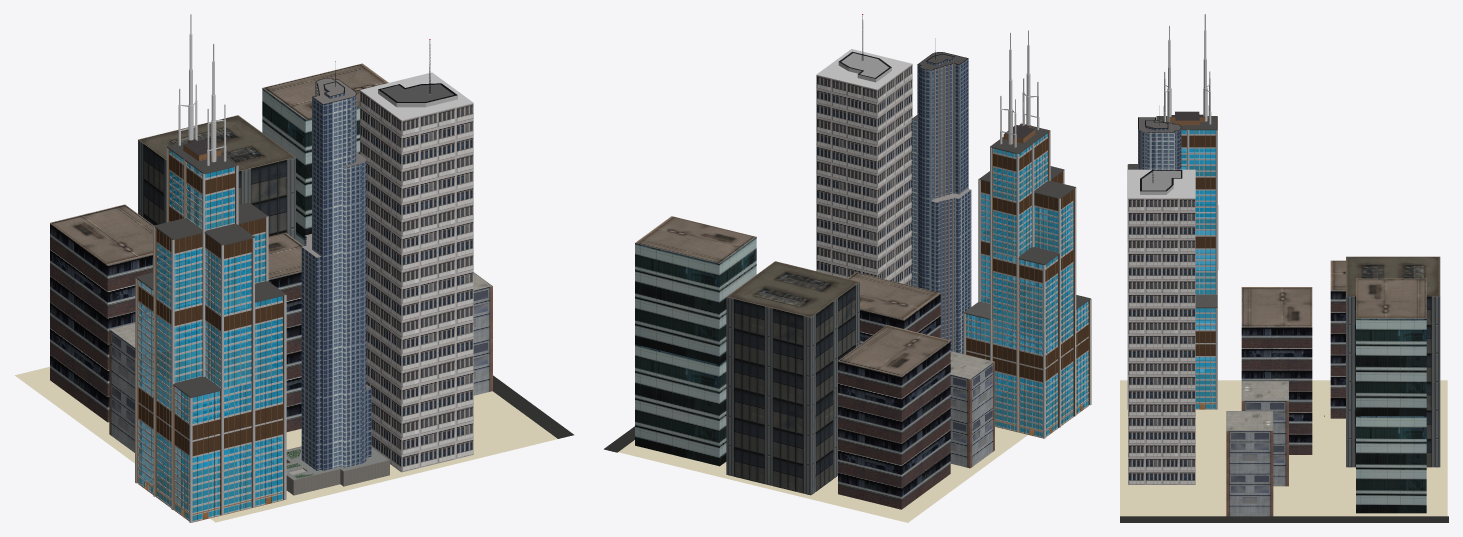
The picture shows the model from 3 angles, left to right: view 1: azimuth 30°, elevation 25°; view 2: azimuth 150°, elevation 25°; view 3: azimuth 270°, elevation 25°; orthographic projection. The views are drawn at different scales.
Visible parts, largest first — view 1: Skyscraper Backdrop Dummy500 (×2), FG-2015-Offsim City Building low Poly (×5), sky scrap1 (×5), High-rise module 2, City 15 Building Dummy large, High-rise module 1, Terrain 11,12, High-rise entrance floor, High-rise module 350m - (High-rise aerial), Hochhaus Boden, Skyscraper Backdrop Dummy 400, Driveway 0.1 - 12.0 - 256.0 (+5 smaller); view 2: FG-2015-Offsim City Building low Poly (×4), City 15 Building Dummy large, Skyscraper Backdrop Dummy500 (×2), sky scrap1 (×3), High-rise module 2, High-rise module 1, High-rise entrance floor, High-rise module 350m - (High-rise aerial), Terrain 8,15, Hochhaus Boden, Terrain 11,15, Terrain 8,14 (+4 smaller); view 3: FG-2015-Offsim City Building low Poly (×5), Skyscraper Backdrop Dummy500 (×2), City 15 Building Dummy large, High-rise module 2, Terrain 11,12, Terrain 11,14, Driveway 0.1 - 12.0 - 256.0, Terrain 10,14, sky scrap1 (×2), High-rise module 350m - (High-rise aerial), High-rise module 1, Terrain 11,13 (+10 smaller).
Part boxes in pixels (<box>): Skyscraper Backdrop Dummy500 (×2): <box>360,72,473,472</box>; FG-2015-Offsim City Building low Poly (×5): <box>50,63,492,452</box>; sky scrap1 (×5): <box>281,97,387,479</box>; High-rise module 2: <box>135,138,285,387</box>; City 15 Building Dummy large: <box>138,115,295,334</box>; High-rise module 1: <box>139,334,282,505</box>; Terrain 11,12: <box>473,402,557,458</box>; High-rise entrance floor: <box>138,456,283,522</box>; High-rise module 350m - (High-rise aerial): <box>178,14,226,165</box>; Hochhaus Boden: <box>141,343,280,387</box>; Skyscraper Backdrop Dummy 400: <box>278,460,389,495</box>; Driveway 0.1 - 12.0 - 256.0: <box>493,375,573,438</box>; FG-2015-Offsim City Building low Poly (×4): <box>635,216,994,509</box>; City 15 Building Dummy large: <box>726,261,859,495</box>; Skyscraper Backdrop Dummy500 (×2): <box>816,49,912,285</box>; sky scrap1 (×3): <box>911,58,971,353</box>; High-rise module 2: <box>979,123,1075,330</box>; High-rise module 1: <box>964,293,1090,424</box>; High-rise entrance floor: <box>995,383,1088,438</box>; High-rise module 350m - (High-rise aerial): <box>1000,30,1039,147</box>; Terrain 8,15: <box>834,488,949,522</box>; Hochhaus Boden: <box>983,280,1069,329</box>; Terrain 11,15: <box>618,440,696,468</box>; Terrain 8,14: <box>932,459,992,491</box>; FG-2015-Offsim City Building low Poly (×5): <box>1226,260,1426,516</box>; Skyscraper Backdrop Dummy500 (×2): <box>1128,169,1195,484</box>; City 15 Building Dummy large: <box>1346,256,1440,467</box>; High-rise module 2: <box>1128,116,1217,294</box>; Terrain 11,12: <box>1120,484,1202,516</box>; Terrain 11,14: <box>1284,484,1366,516</box>; Driveway 0.1 - 12.0 - 256.0: <box>1120,516,1448,522</box>; Terrain 10,14: <box>1289,450,1355,484</box>; sky scrap1 (×2): <box>1138,129,1181,169</box>; High-rise module 350m - (High-rise aerial): <box>1163,14,1211,125</box>; High-rise module 1: <box>1195,294,1217,396</box>; Terrain 11,13: <box>1202,484,1284,516</box>.
Size of the model in its own units: 278 by 324 by 256.
59 materials, 52 textured.
